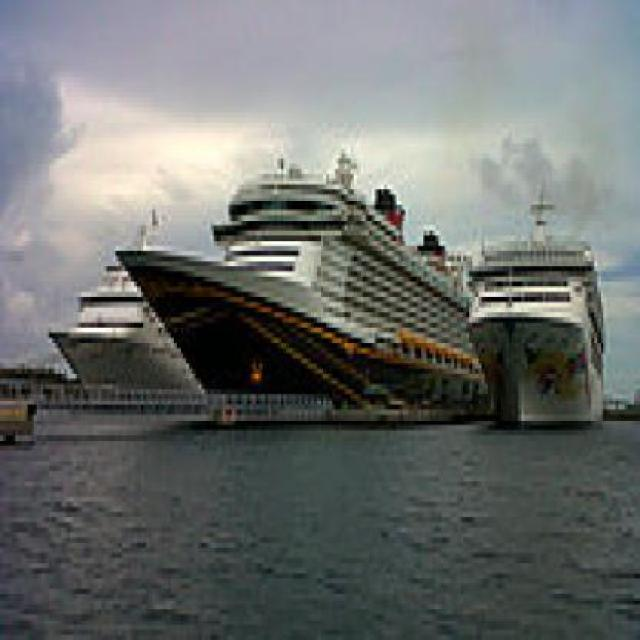cruise: (113, 149, 501, 431), (455, 186, 629, 437)
